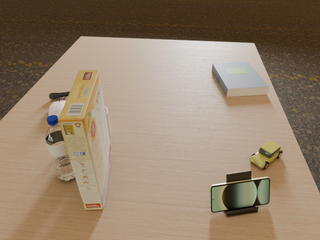book: (212, 62, 269, 97)
bottle: (45, 115, 75, 181)
box: (58, 70, 112, 210)
mouse: (49, 100, 66, 118)
phone: (210, 177, 270, 212)
toy_car: (250, 140, 283, 169)
